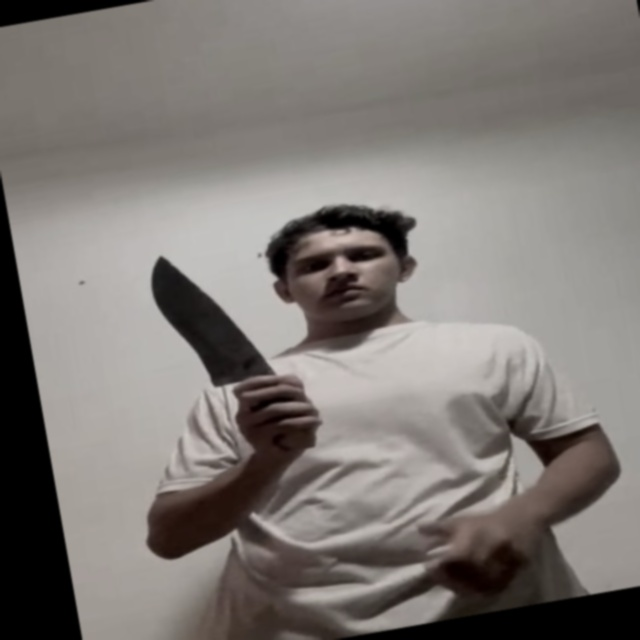Sharp-Object: (140, 238, 277, 405)
